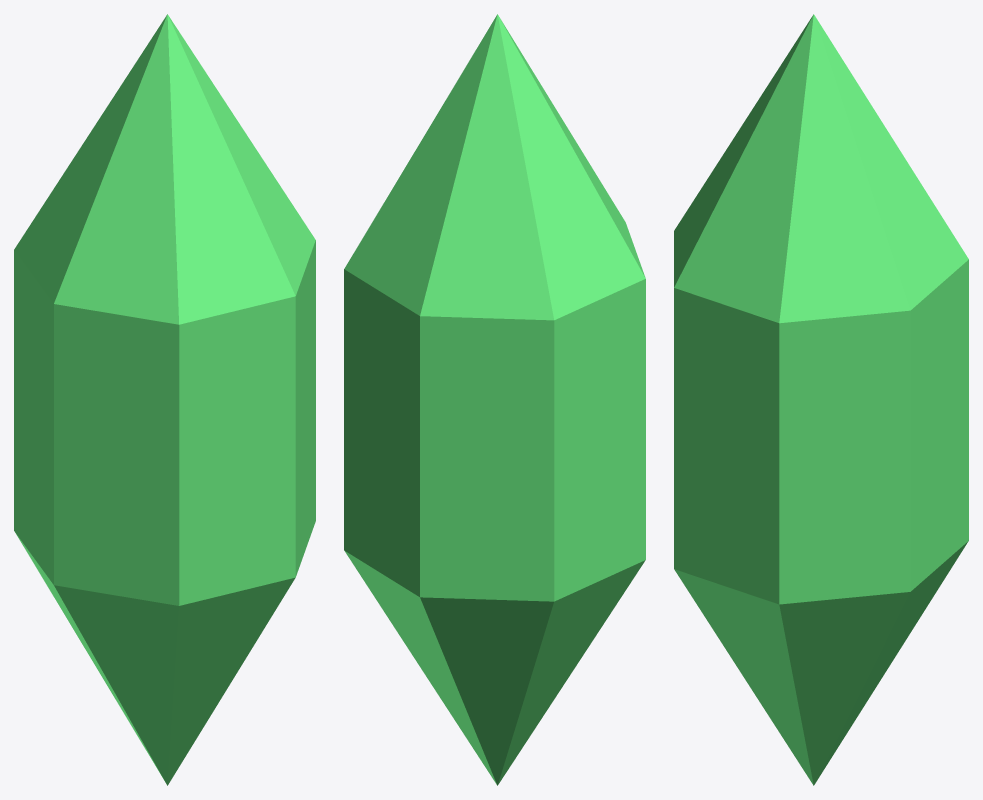
File: emerald.fbx
3 renders of one model, left to right at view 1: azimuth 30°, elevation 25°; view 2: azimuth 150°, elevation 25°; view 3: azimuth 270°, elevation 25°, orthographic.
Visible parts, largest first — view 1: Cylinder; view 2: Cylinder; view 3: Cylinder.
Part boxes in pixels (box(x1,y1,x2,y2)): Cylinder: box(14, 14, 315, 785); Cylinder: box(344, 14, 645, 785); Cylinder: box(674, 14, 968, 785).
Bounding box in the file's own units: 97.49 × 274 × 95.05.
